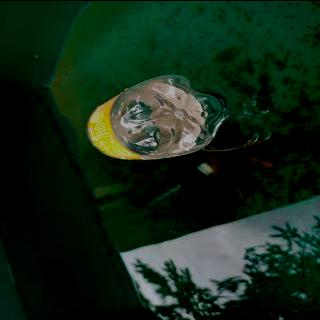bottle: (84, 72, 226, 160)
